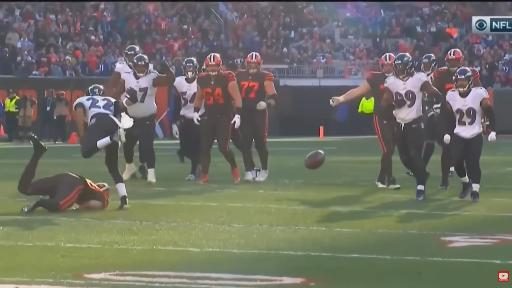Helmet: (453, 67, 473, 92), (394, 53, 414, 78), (204, 54, 222, 75), (446, 49, 463, 71), (132, 55, 149, 77), (380, 53, 395, 76), (246, 52, 262, 72), (183, 58, 198, 78), (422, 54, 436, 74), (125, 46, 140, 63), (96, 183, 109, 199), (86, 85, 103, 96), (225, 60, 239, 72), (96, 183, 109, 191), (235, 59, 242, 68), (202, 66, 206, 73)
Jersey: (385, 73, 429, 123), (446, 87, 488, 138), (122, 71, 158, 118), (198, 72, 236, 114), (236, 70, 274, 109), (74, 96, 115, 123), (76, 176, 109, 207), (367, 72, 390, 116), (174, 76, 197, 118), (432, 67, 455, 95), (423, 95, 440, 112), (115, 60, 132, 74), (115, 61, 131, 74)
Player: (330, 54, 400, 189), (382, 53, 441, 200), (74, 85, 132, 209), (118, 55, 174, 183), (442, 68, 495, 202), (18, 135, 109, 213), (194, 54, 241, 183), (236, 52, 276, 181), (172, 58, 199, 180), (106, 45, 140, 99), (106, 46, 140, 97), (231, 127, 260, 180), (423, 97, 440, 165), (437, 122, 454, 189)
